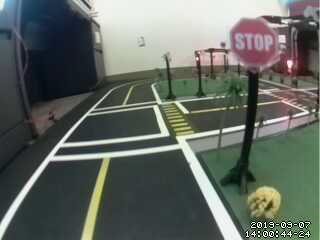Stop_Sign: (222, 17, 285, 70)
